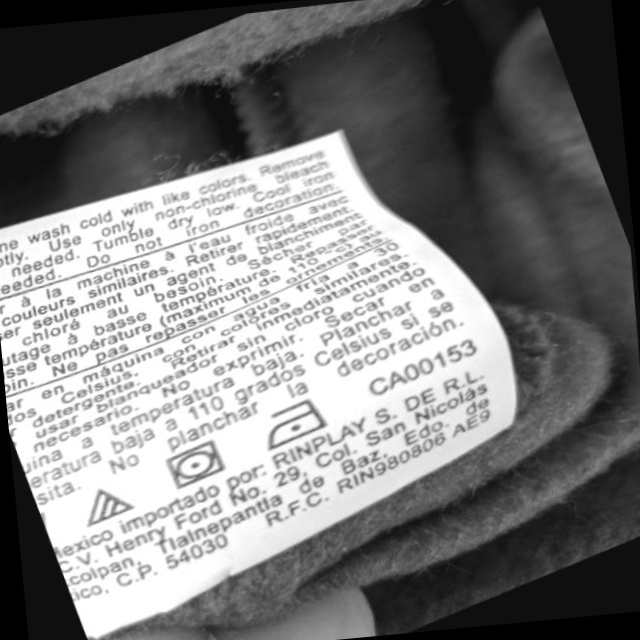iron_low: (259, 395, 335, 454)
non_chlorine_bleach: (79, 478, 136, 527)
tumble_dry_low: (158, 440, 228, 490)
